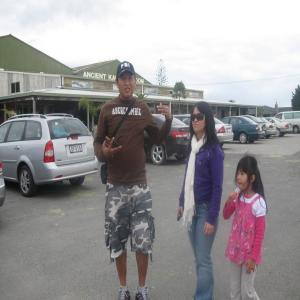Vehicle-registration-plate: (70, 145, 84, 154), (272, 126, 278, 132), (289, 124, 293, 132), (228, 128, 232, 135)
